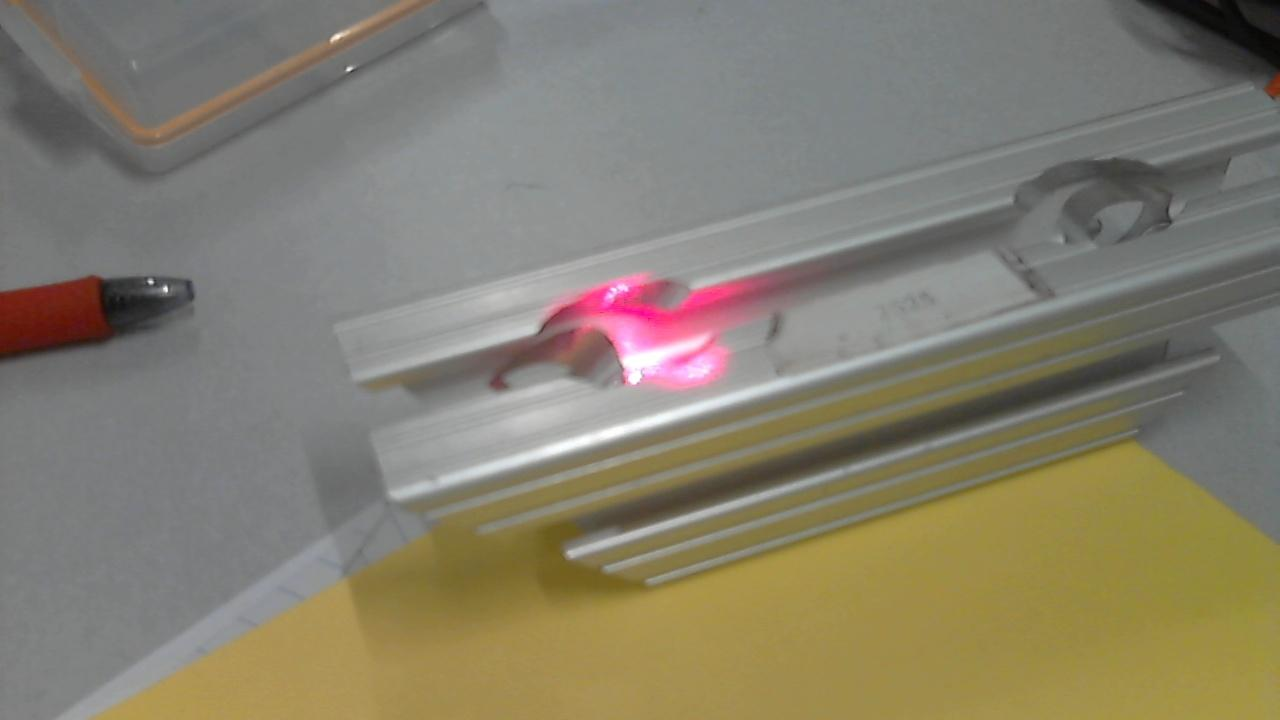Object - extruded aluminum profile - Material metal - Pdfname IJiB5jbMhrV7: (549, 251, 772, 399)
